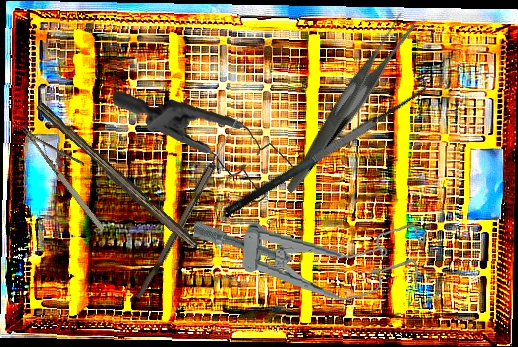Dressing Forceps: (243, 10, 451, 194)
Needle Holder: (20, 109, 122, 234)
Scalpel Handle: (30, 101, 203, 253)
Spatula Surgical: (213, 70, 436, 219)
Speculum: (112, 79, 297, 216), (188, 204, 429, 308)
Surgical Spoon: (136, 112, 243, 302)
